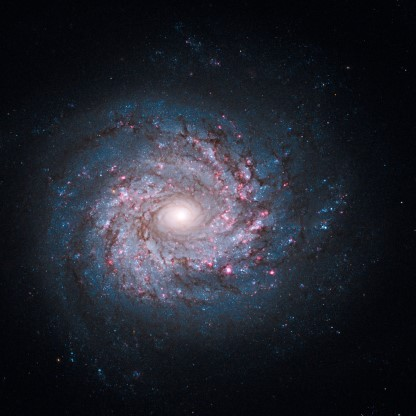NGC 3982: (33, 93, 350, 350)
